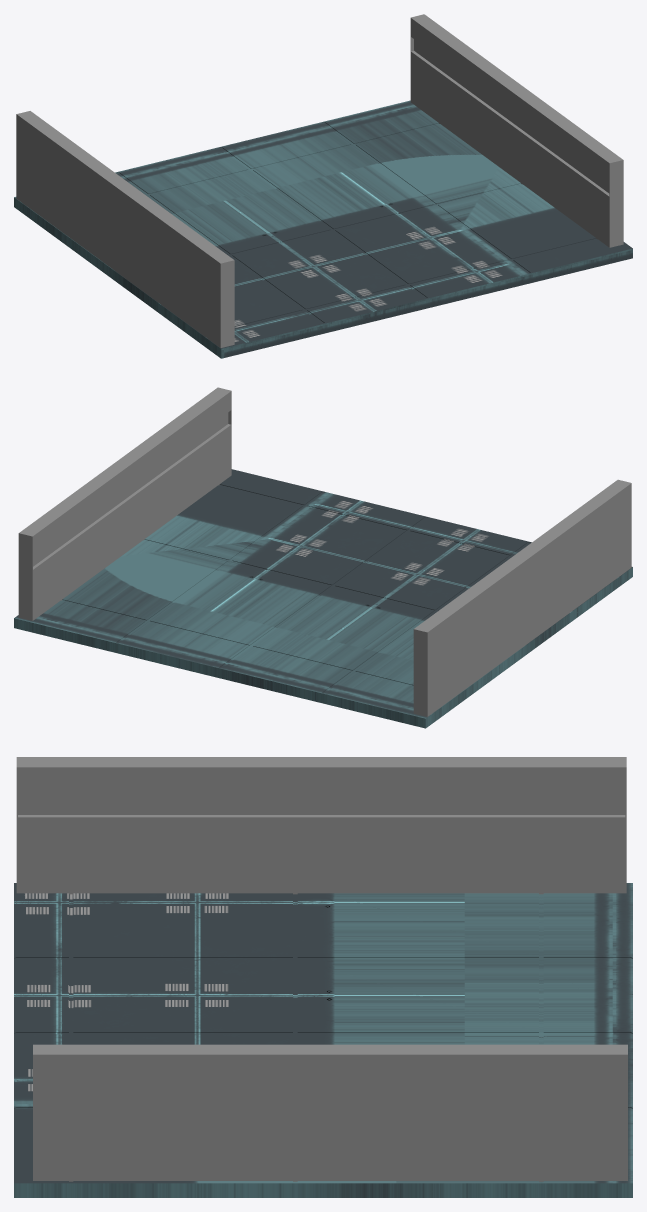
The model's file is Flur_Big_Room.FBX.
3 renders of one model, top to bottom at view 1: azimuth 30°, elevation 25°; view 2: azimuth 150°, elevation 25°; view 3: azimuth 270°, elevation 25°, orthographic. The views are drawn at different scales.
Visible parts, largest first — view 1: Box189, Flur_Wand_V034, Flur_Wand_V035; view 2: Box189, Flur_Wand_V034, Flur_Wand_V035; view 3: Box189, Flur_Wand_V034, Flur_Wand_V035.
Part boxes in pixels (left/top/right/bottom): Box189: left=14, top=100, right=632, bottom=358; Flur_Wand_V034: left=16, top=111, right=234, bottom=347; Flur_Wand_V035: left=410, top=14, right=623, bottom=247; Box189: left=14, top=469, right=632, bottom=728; Flur_Wand_V034: left=413, top=479, right=631, bottom=716; Flur_Wand_V035: left=18, top=387, right=231, bottom=620; Box189: left=14, top=883, right=632, bottom=1197; Flur_Wand_V034: left=16, top=757, right=626, bottom=894; Flur_Wand_V035: left=33, top=1044, right=627, bottom=1181.
Bounding box in the file's own units: 14.83 × 12.93 × 3.25.
